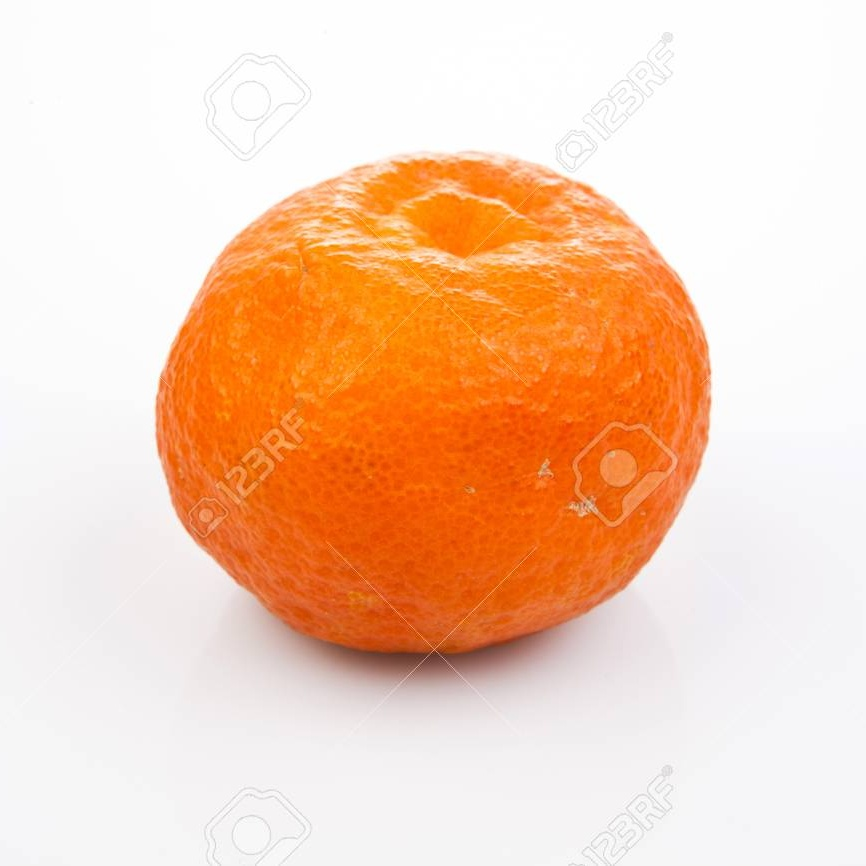mandarin: (151, 151, 713, 658)
